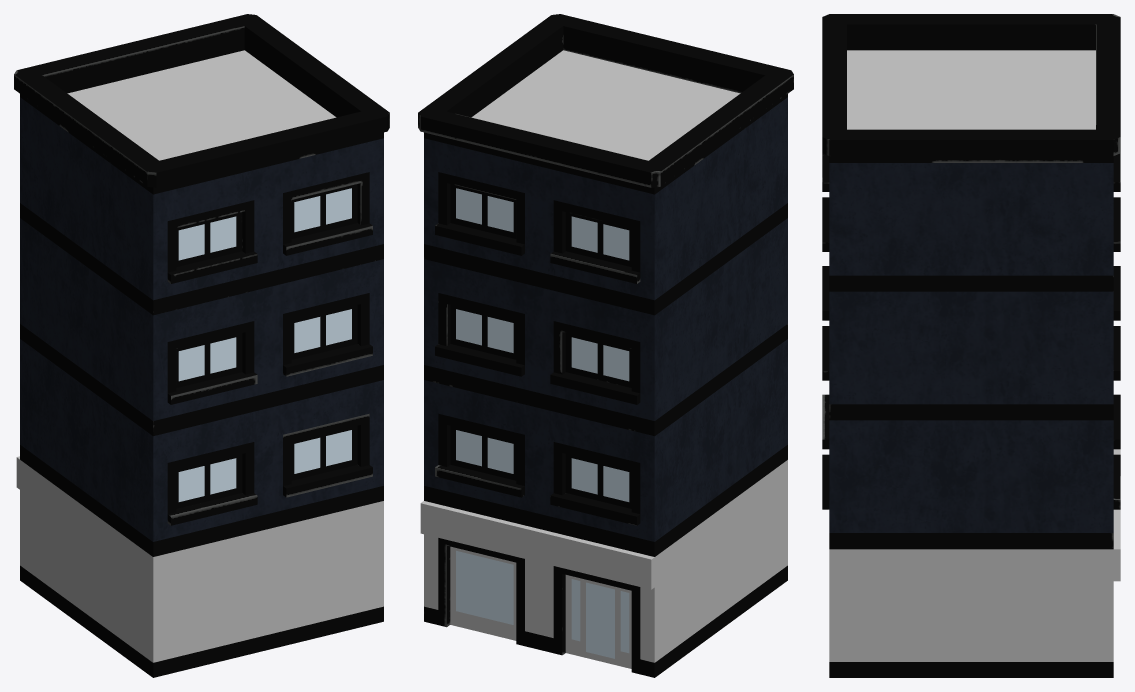
Rendered from large_buildingB1.fbx.
3 views of the same model, side by side, from view 1: azimuth 30°, elevation 25°; view 2: azimuth 150°, elevation 25°; view 3: azimuth 270°, elevation 25° (orthographic). The views are drawn at different scales.
Visible parts, largest first — view 1: large_buildingB; view 2: large_buildingB; view 3: large_buildingB.
Part boxes in pixels (x1,y1,x2,y2): large_buildingB: (14, 14, 389, 677); large_buildingB: (418, 14, 793, 677); large_buildingB: (822, 14, 1120, 677).
Bounding box in the file's own units: 84 × 168 × 84.
